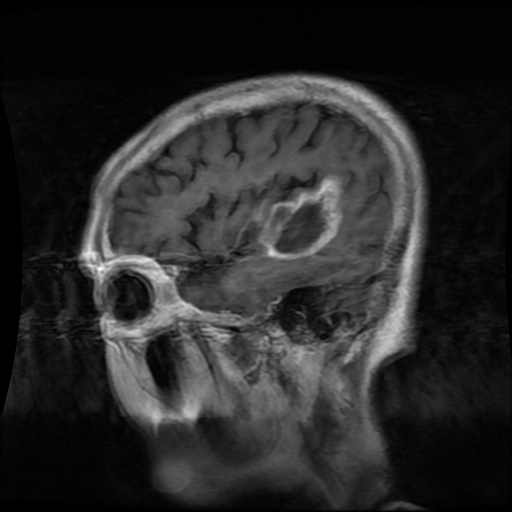glioma: (257, 172, 340, 258)
